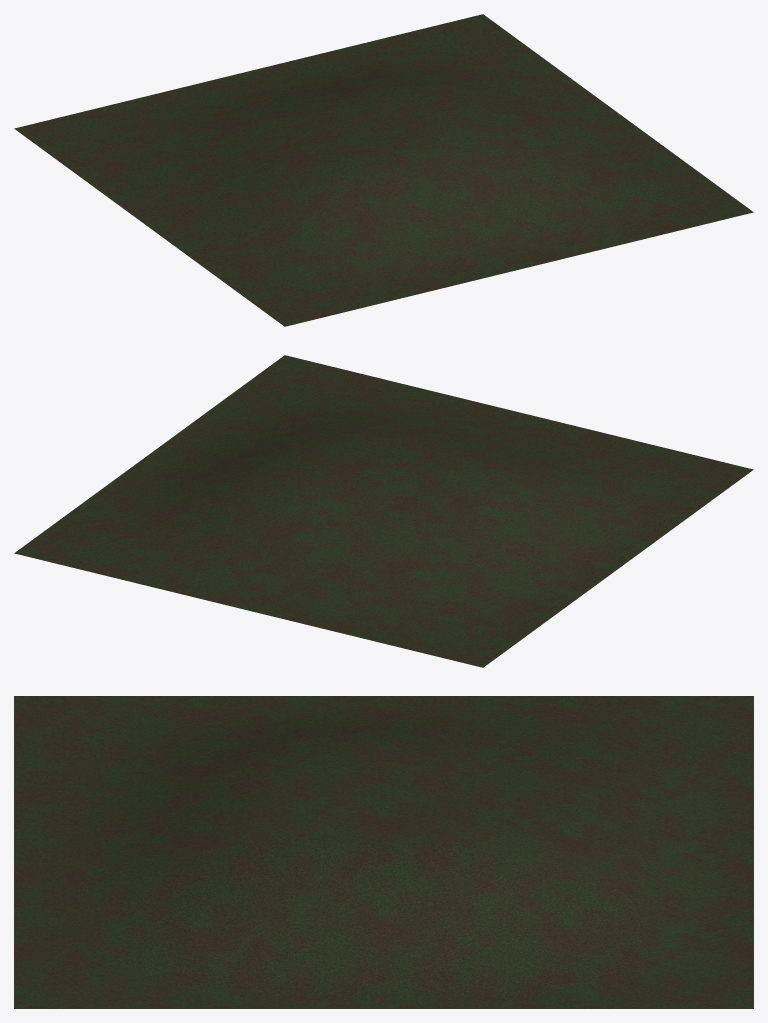
File: meadow-rise-40m.glb
3 renders of one model, top to bottom at view 1: azimuth 30°, elevation 25°; view 2: azimuth 150°, elevation 25°; view 3: azimuth 270°, elevation 25°, orthographic. The views are drawn at different scales.
Visible parts, largest first — view 1: Walkable surface; view 2: Walkable surface; view 3: Walkable surface.
Part boxes in pixels (x1,y1,x2,y2): Walkable surface: [14, 14, 753, 326]; Walkable surface: [14, 355, 753, 667]; Walkable surface: [14, 696, 753, 1008].
Size of the model in its own units: 40 by 2.94 by 40.
Materials: 1 (1 with a texture image).
